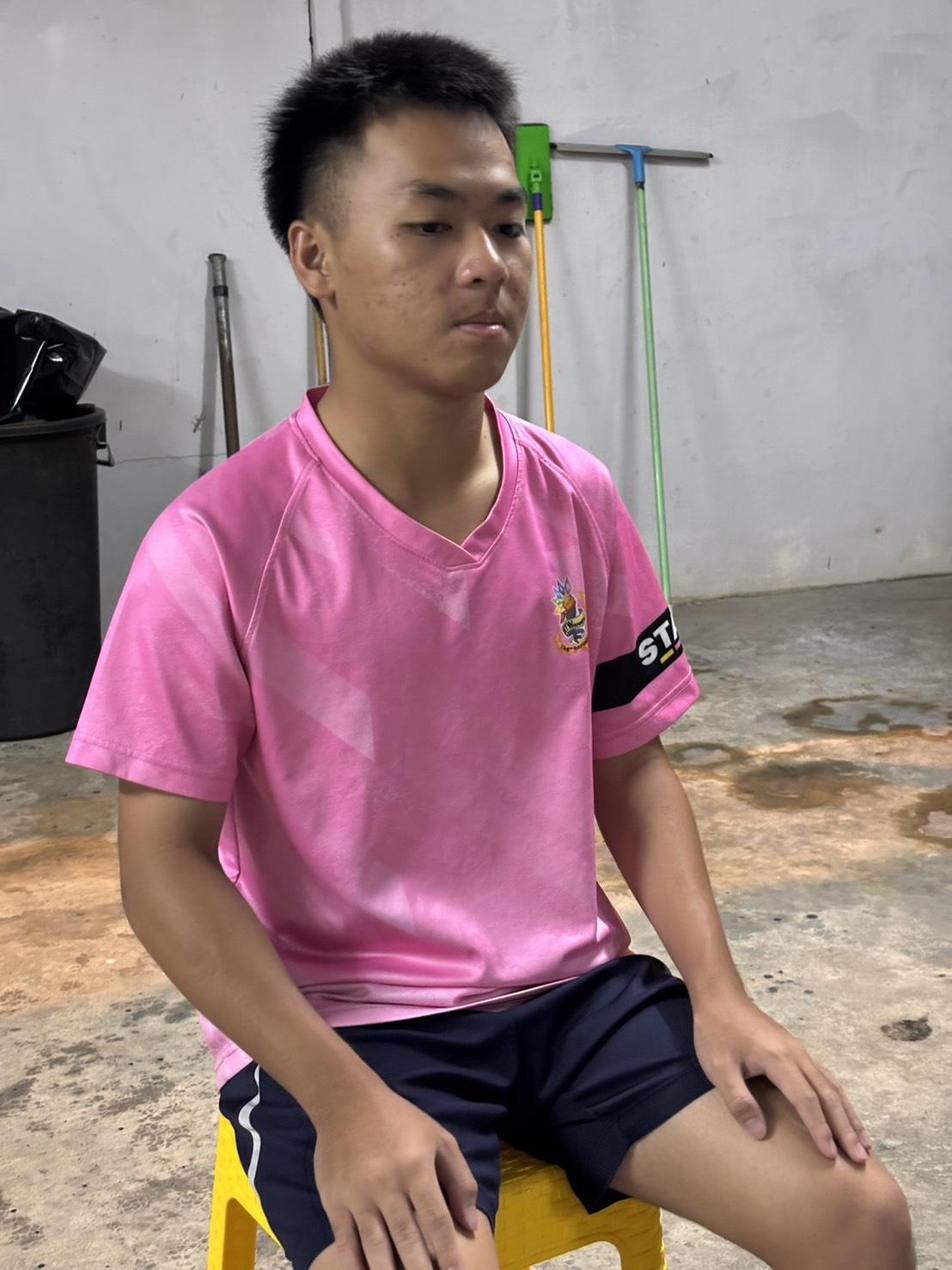GoodPosture: (68, 33, 805, 1083), (67, 88, 698, 859)
